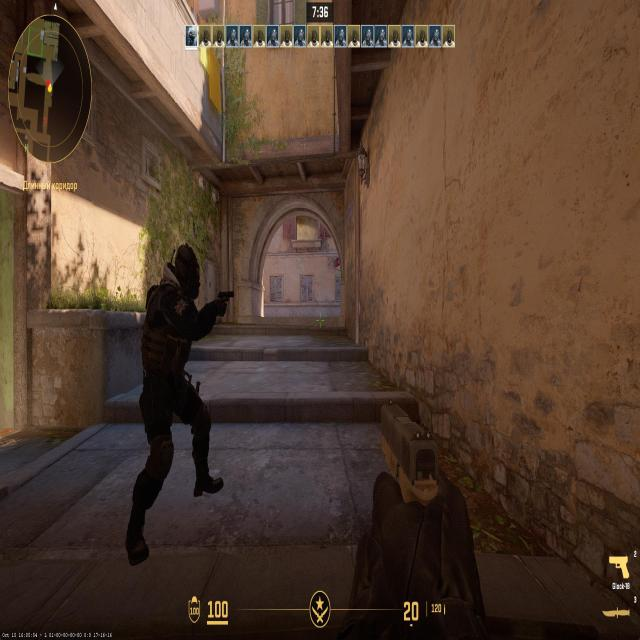CT: (157, 252, 200, 435)
CT_heat: (179, 262, 195, 278)
